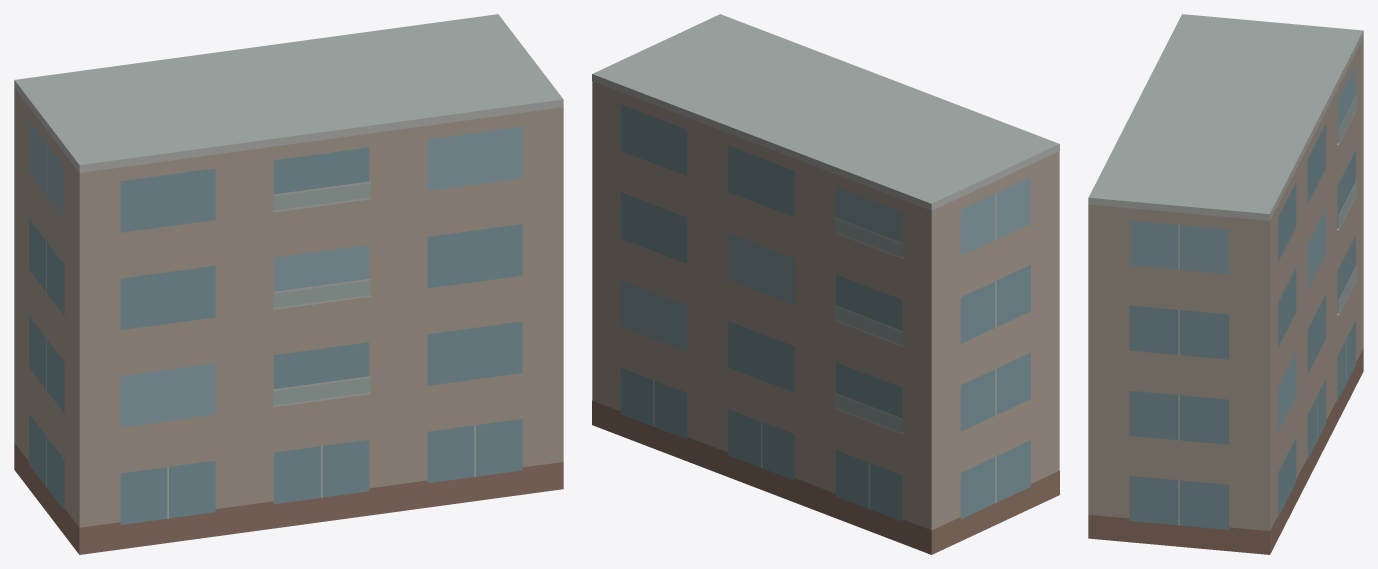
File: residential-5ec85b43-a353-4ca8-a11d-27cf03c4163e.glb
3 views of the same model, side by side, from view 1: azimuth 30°, elevation 25°; view 2: azimuth 150°, elevation 25°; view 3: azimuth 270°, elevation 25° (orthographic). The views are drawn at different scales.
Visible parts, largest first — view 1: residential-5ec85b43-a353-4ca8-a11d-27cf03c4163e.tmp; view 2: residential-5ec85b43-a353-4ca8-a11d-27cf03c4163e.tmp; view 3: residential-5ec85b43-a353-4ca8-a11d-27cf03c4163e.tmp.
Boxes of the visible parts, x1,y1,x2,y2 form: residential-5ec85b43-a353-4ca8-a11d-27cf03c4163e.tmp: [14, 14, 563, 554]; residential-5ec85b43-a353-4ca8-a11d-27cf03c4163e.tmp: [592, 14, 1059, 554]; residential-5ec85b43-a353-4ca8-a11d-27cf03c4163e.tmp: [1088, 14, 1363, 554].
Bounding box in the file's own units: 15.38 × 12.2 × 8.94.
